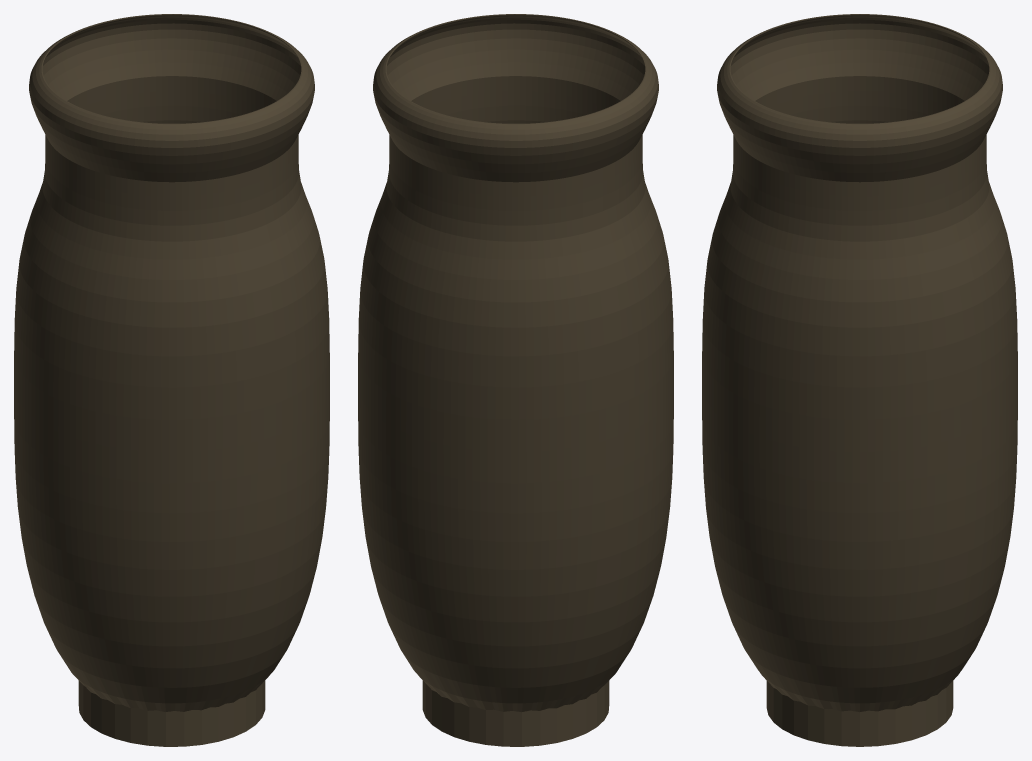
File: Vase3.glb
The picture shows the model from 3 angles, left to right: view 1: azimuth 30°, elevation 25°; view 2: azimuth 150°, elevation 25°; view 3: azimuth 270°, elevation 25°; orthographic projection.
Visible parts, largest first — view 1: Cylinder.001; view 2: Cylinder.001; view 3: Cylinder.001.
Part boxes in pixels (x1=…): Cylinder.001: x1=14, y1=14, x2=329, y2=746; Cylinder.001: x1=358, y1=14, x2=673, y2=746; Cylinder.001: x1=702, y1=14, x2=1017, y2=746.
Size of the model in its own units: 2.31 by 5.16 by 2.31.
